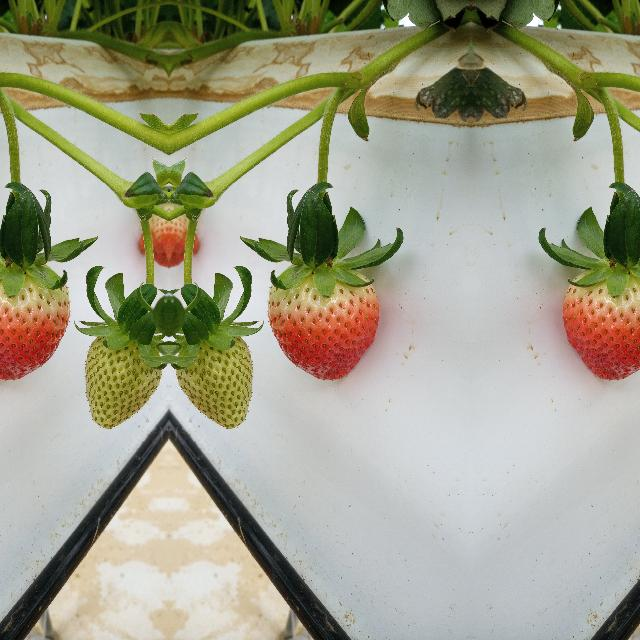Health_100: (266, 269, 378, 381), (563, 269, 640, 381), (0, 269, 70, 381)
Health_25: (77, 298, 166, 429), (170, 298, 258, 429)
